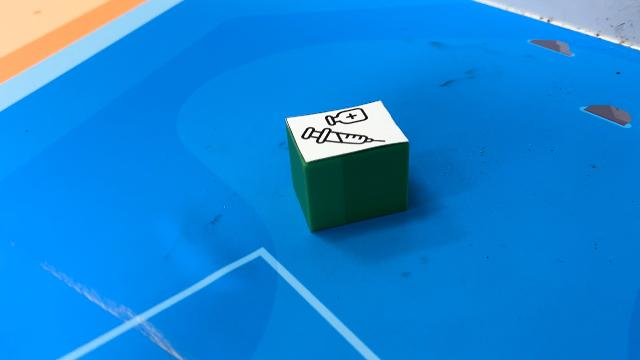syringe: (284, 100, 410, 232)
